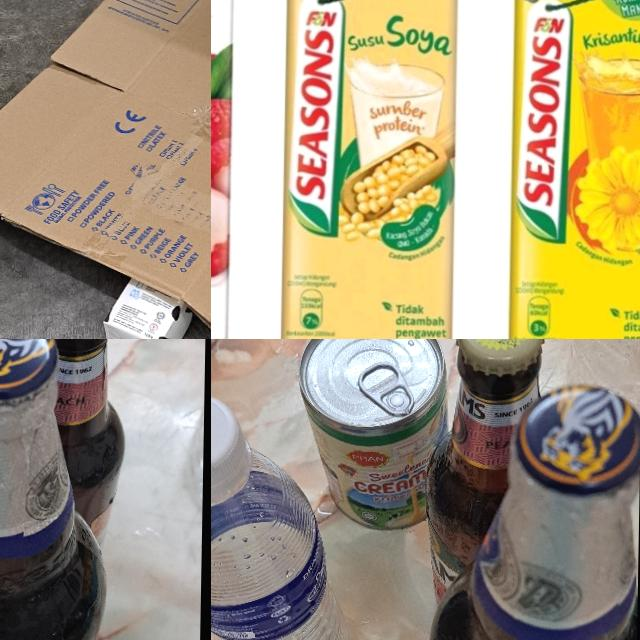aba de lata: (358, 361, 416, 419)
caixinha: (275, 0, 465, 339), (501, 0, 640, 339), (99, 275, 194, 339)
garrafa de vidro: (429, 380, 640, 640), (0, 339, 111, 640), (425, 339, 542, 601), (31, 339, 128, 548)
garrafa plástica: (211, 394, 352, 640), (575, 339, 640, 384)
lata: (296, 339, 450, 529)
papelão: (0, 0, 211, 339)
tampa plástica: (211, 394, 252, 505)
